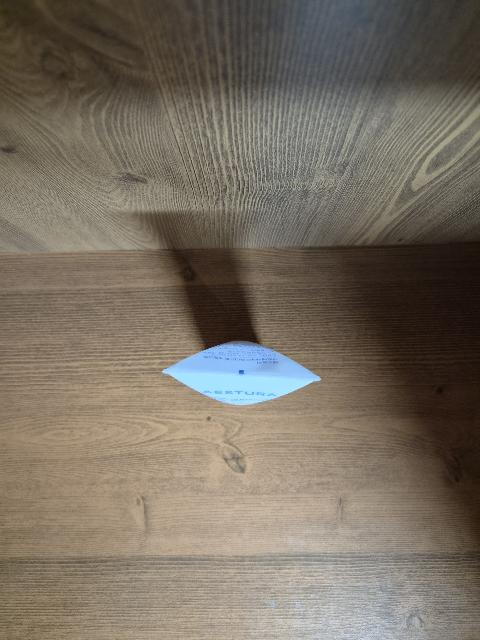handcream: (162, 341, 321, 405)
